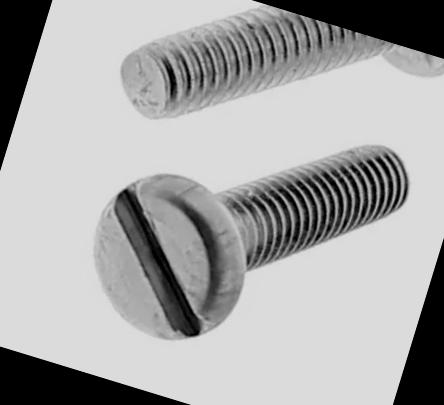slotted: (68, 152, 270, 360)
